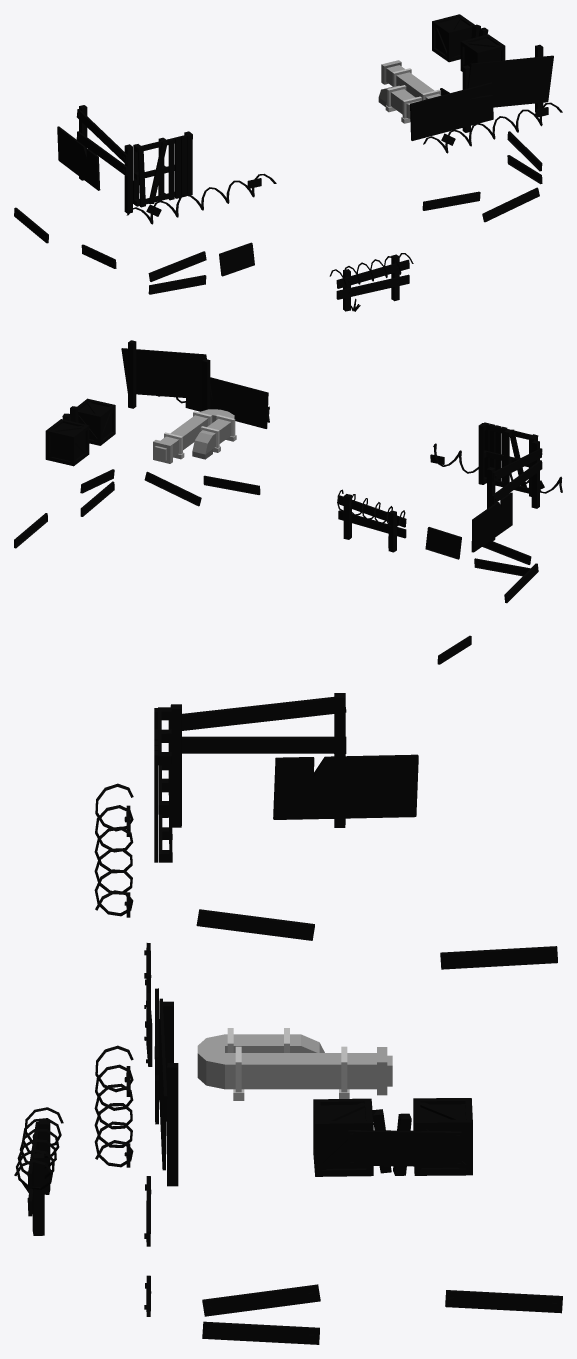
Rendered from SA_Bld_PoliceStation_Extras_01.gltf.
3 views of the same model, one above another, from view 1: azimuth 30°, elevation 25°; view 2: azimuth 150°, elevation 25°; view 3: azimuth 270°, elevation 25° (orthographic). The views are drawn at different scales.
Visible parts, largest first — view 1: SA_Bld_PoliceStation_Extras_01; view 2: SA_Bld_PoliceStation_Extras_01; view 3: SA_Bld_PoliceStation_Extras_01.
Boxes of the visible parts, x1,y1,x2,y2 form: SA_Bld_PoliceStation_Extras_01: (14, 14, 562, 311); SA_Bld_PoliceStation_Extras_01: (14, 340, 562, 664); SA_Bld_PoliceStation_Extras_01: (14, 693, 562, 1344).
Size of the model in its own units: 24.18 by 10 by 14.62.
Materials: 1 (1 with a texture image).
